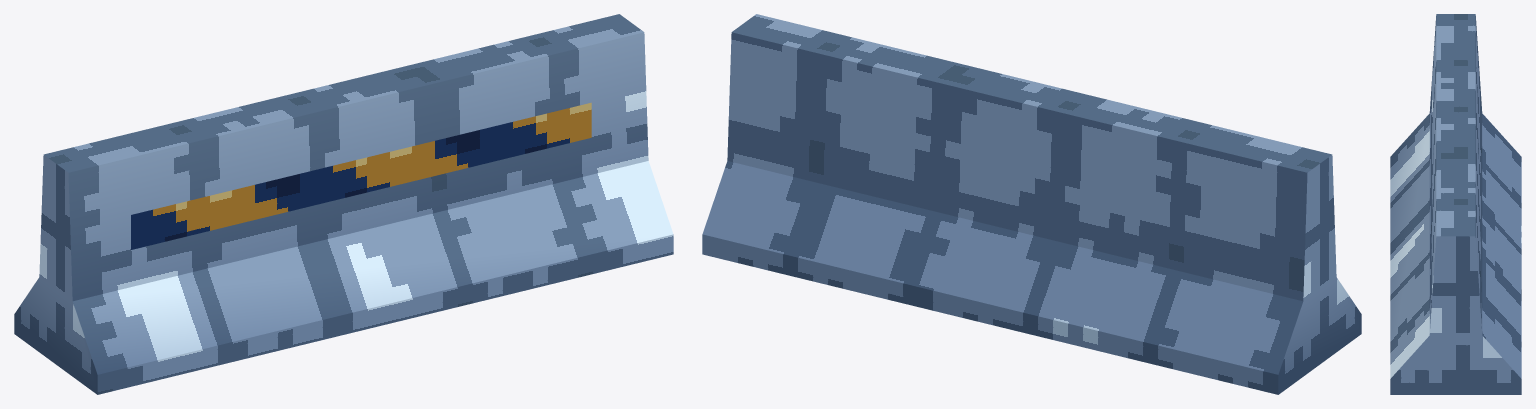
The model's file is cytech.barrier.glb.
3 views of the same model, side by side, from view 1: azimuth 30°, elevation 25°; view 2: azimuth 150°, elevation 25°; view 3: azimuth 270°, elevation 25° (orthographic). The views are drawn at different scales.
Visible parts, largest first — view 1: kit_barrier, kit_card_bands; view 2: kit_barrier; view 3: kit_barrier.
Boxes of the visible parts, bbox=[...] form: kit_barrier: bbox=[14, 14, 673, 394]; kit_card_bands: bbox=[131, 102, 591, 249]; kit_barrier: bbox=[702, 14, 1361, 394]; kit_barrier: bbox=[1390, 14, 1521, 394].
Bounding box in the file's own units: 2.4 × 0.8 × 0.6.
Materials: 2 (2 with a texture image).
